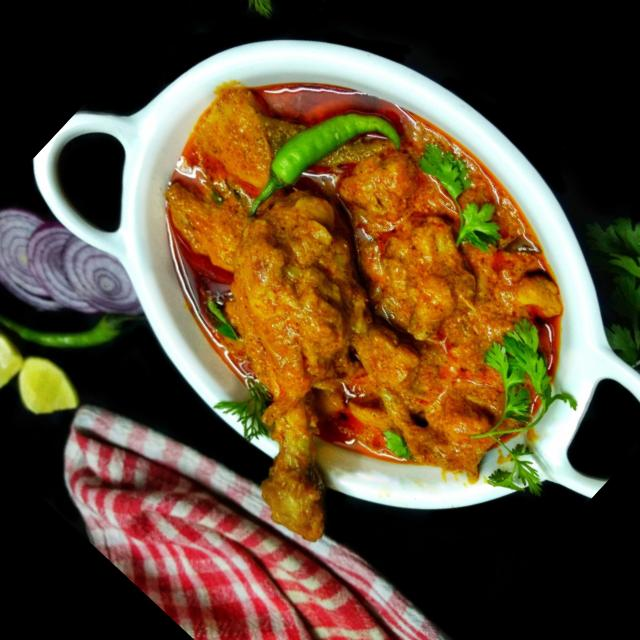chicken: (84, 0, 631, 534)
